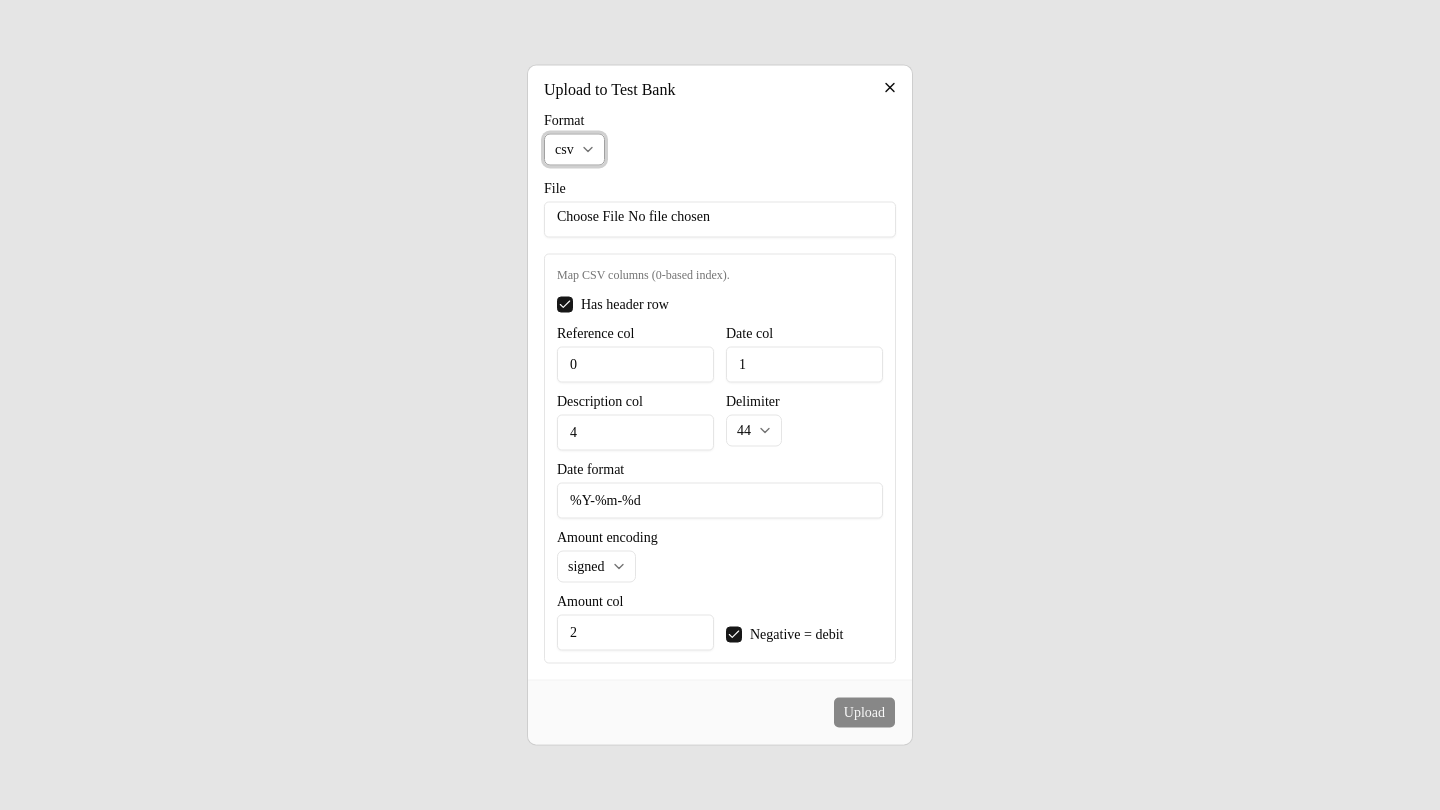
Test: UploadDialog › hides CSV mapping fields when MT942 is selected
Click the dropdown named "format". click: (574, 150)
box: [544,134,605,166]
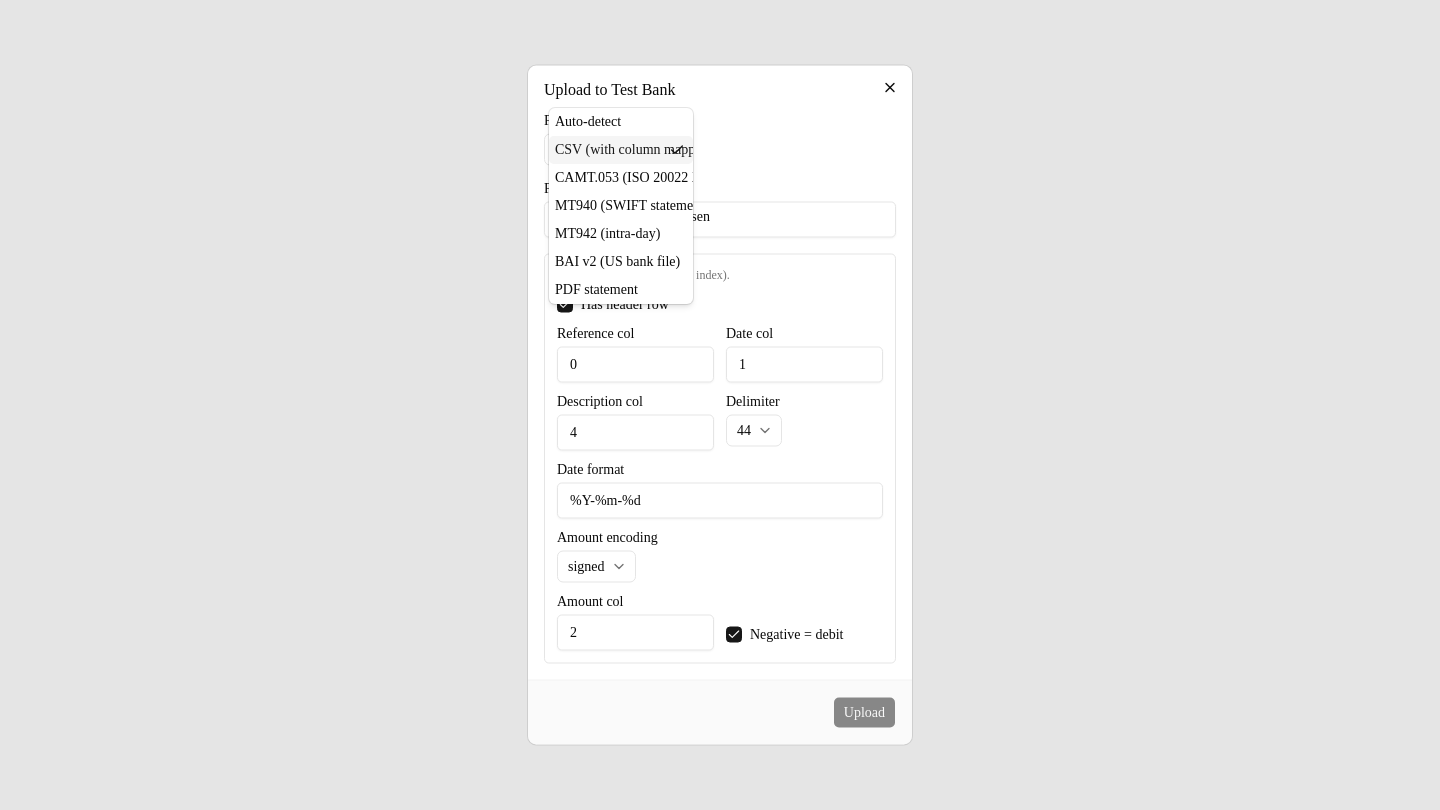
Click the option "MT942 (intra-day)". click: (608, 233)
box: [555,226,660,240]
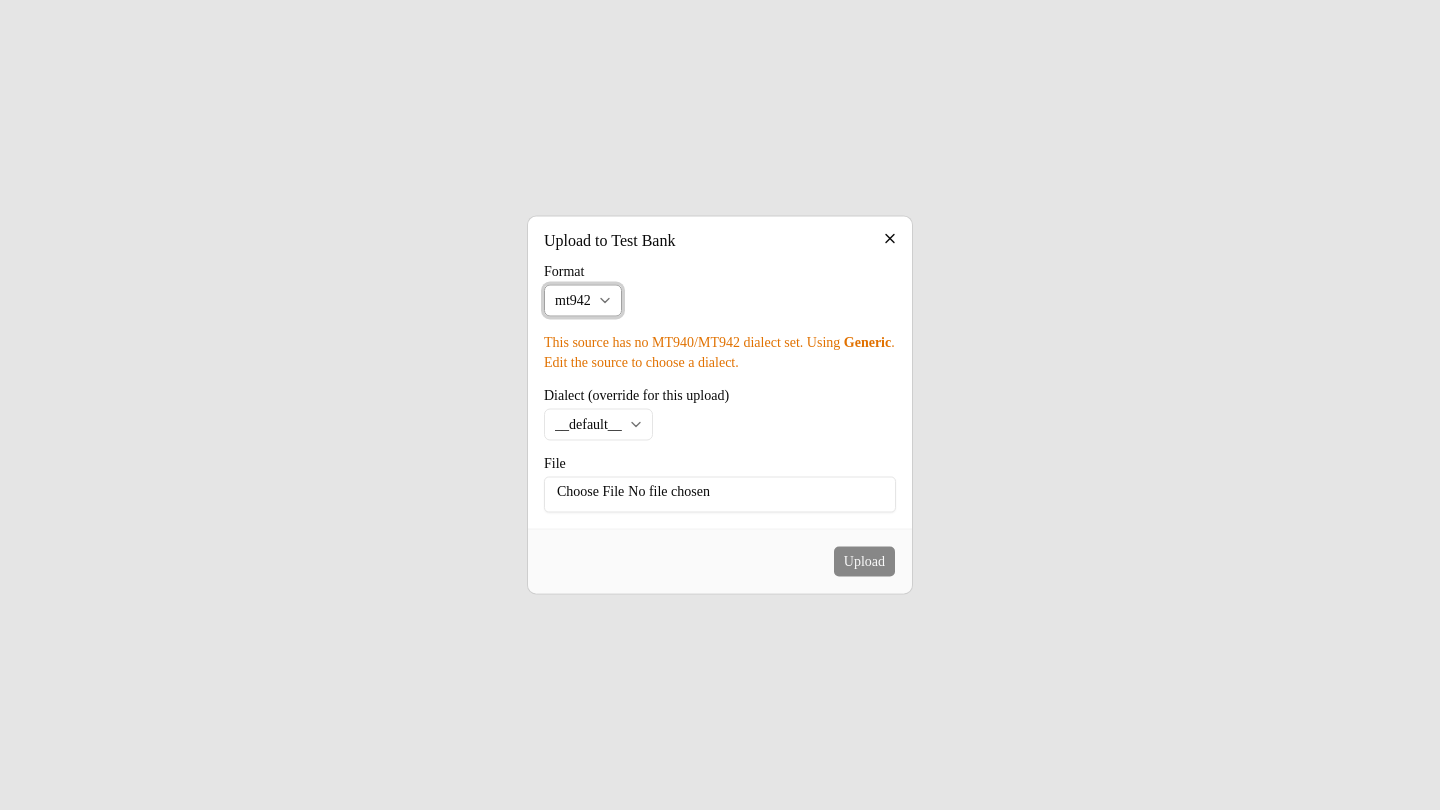
Expected: the label labelled "Reference col" is gone
